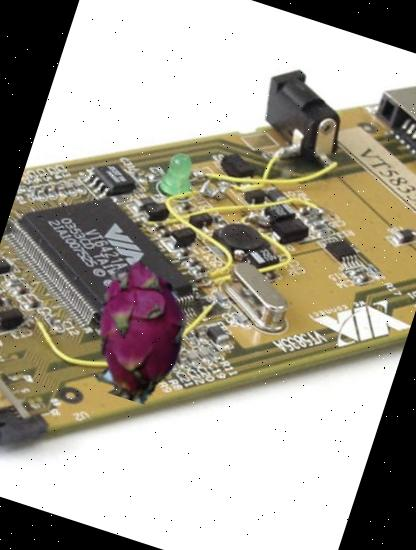Pitahaya: (53, 246, 224, 417)
